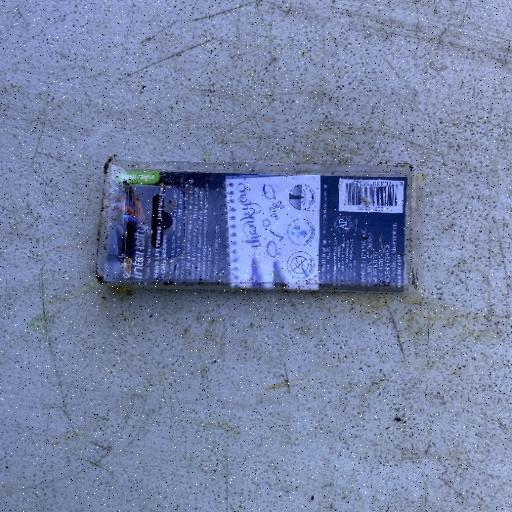Plastic: (94, 157, 412, 294)
